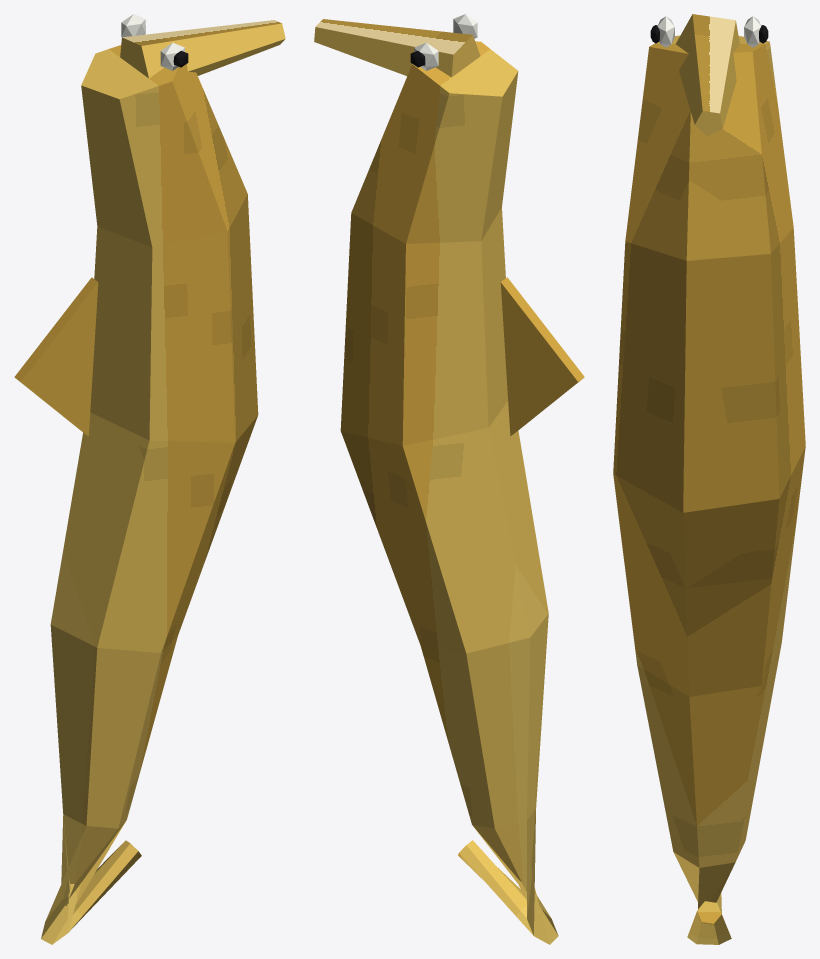
File: pot_bellied_seahorse.glb
The picture shows the model from 3 angles, left to right: view 1: azimuth 30°, elevation 25°; view 2: azimuth 150°, elevation 25°; view 3: azimuth 270°, elevation 25°; orthographic projection. The views are drawn at different scales.
Parts seen in each view (by area): view 1: fish_pot_bellied_seahorse; view 2: fish_pot_bellied_seahorse; view 3: fish_pot_bellied_seahorse.
Boxes of the visible parts, x1,y1,x2,y2 form: fish_pot_bellied_seahorse: [14, 14, 285, 944]; fish_pot_bellied_seahorse: [314, 14, 584, 944]; fish_pot_bellied_seahorse: [613, 14, 805, 944].
Bounding box in the file's own units: 0.27 × 0.8756 × 0.1548.
4 materials, 1 textured.
